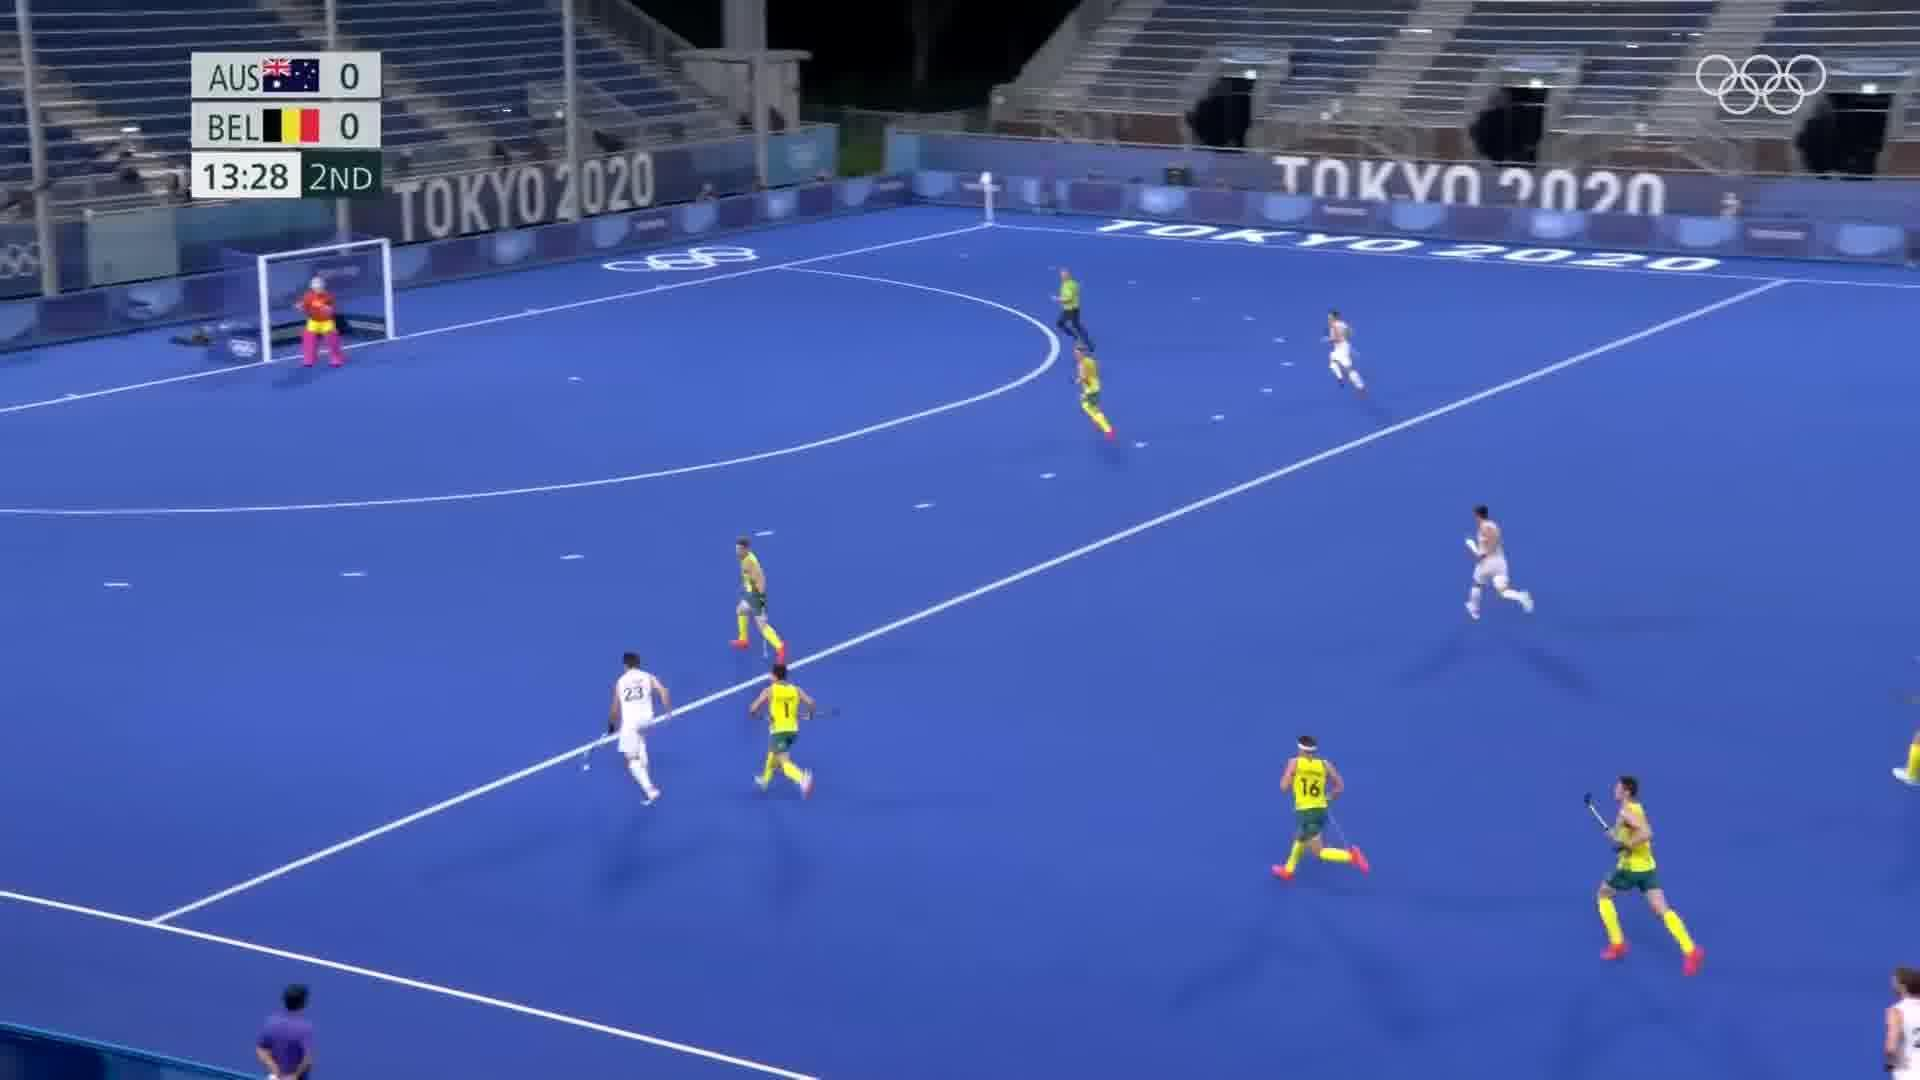ball: (575, 758, 596, 774)
